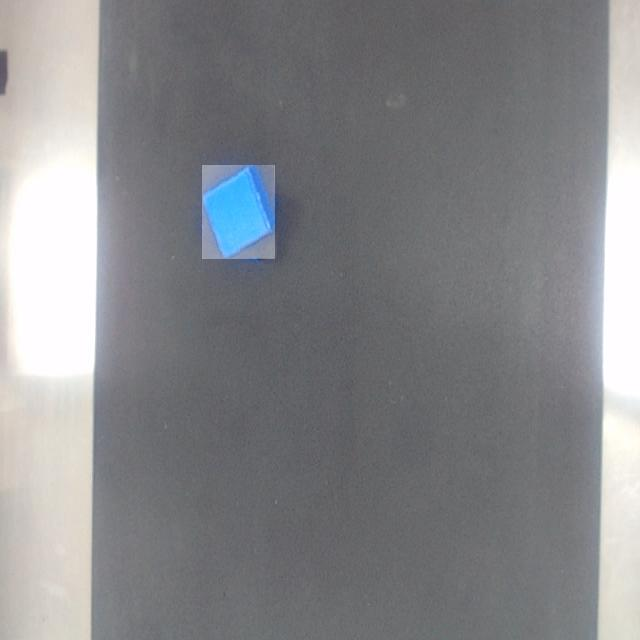Azul: (203, 166, 275, 259)
